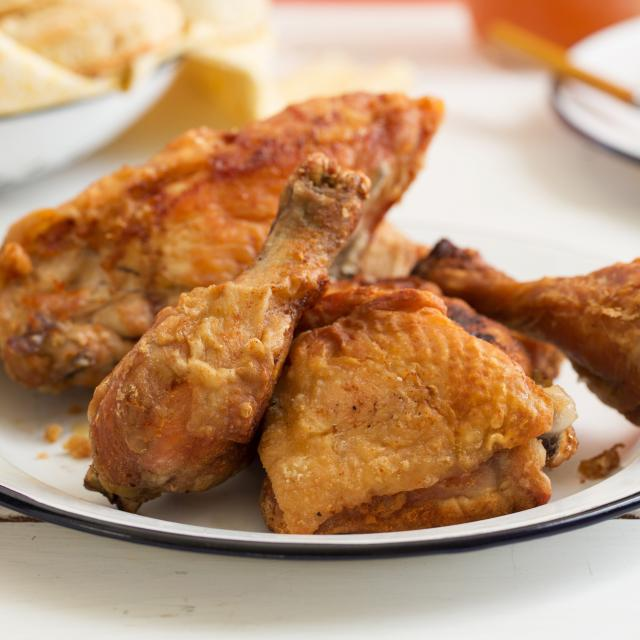Frango: (0, 73, 640, 538)
